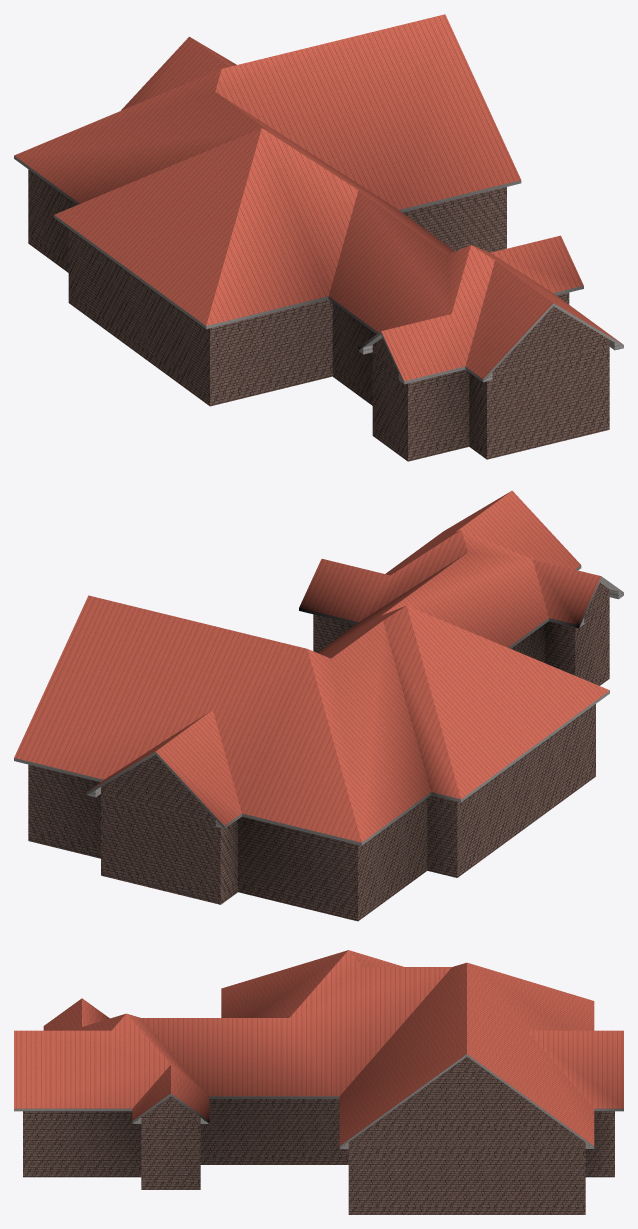
The model's file is house_018.glb.
3 renders of one model, top to bottom at view 1: azimuth 30°, elevation 25°; view 2: azimuth 150°, elevation 25°; view 3: azimuth 270°, elevation 25°, orthographic. The views are drawn at different scales.
Visible parts, largest first — view 1: Export; view 2: Export; view 3: Export.
Part boxes in pixels (x1=…): Export: x1=14, y1=14, x2=623, y2=461; Export: x1=14, y1=490, x2=623, y2=921; Export: x1=14, y1=950, x2=623, y2=1214.
Bounding box in the file's own units: 12.6 × 6.14 × 20.6.
Materials: 3 (3 with a texture image).
